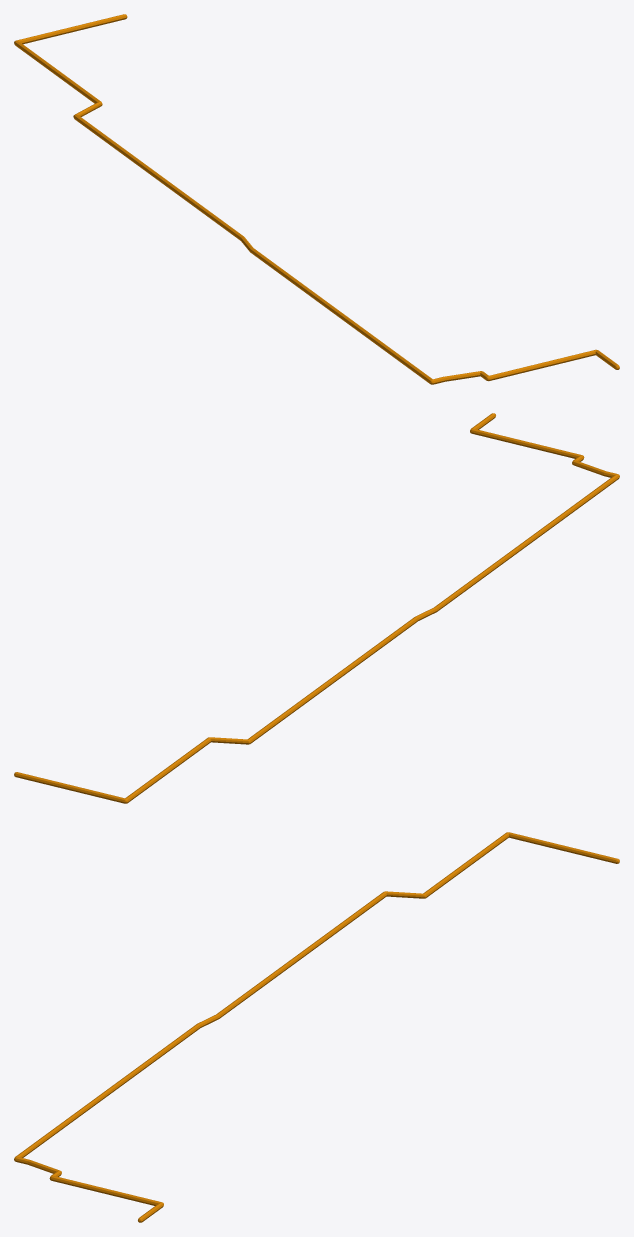
3 views of the same model, one above another, from view 1: azimuth 30°, elevation 25°; view 2: azimuth 150°, elevation 25°; view 3: azimuth 330°, elevation 25° (orthographic).
Size of the model in its own units: 660 by 20 by 3498.
